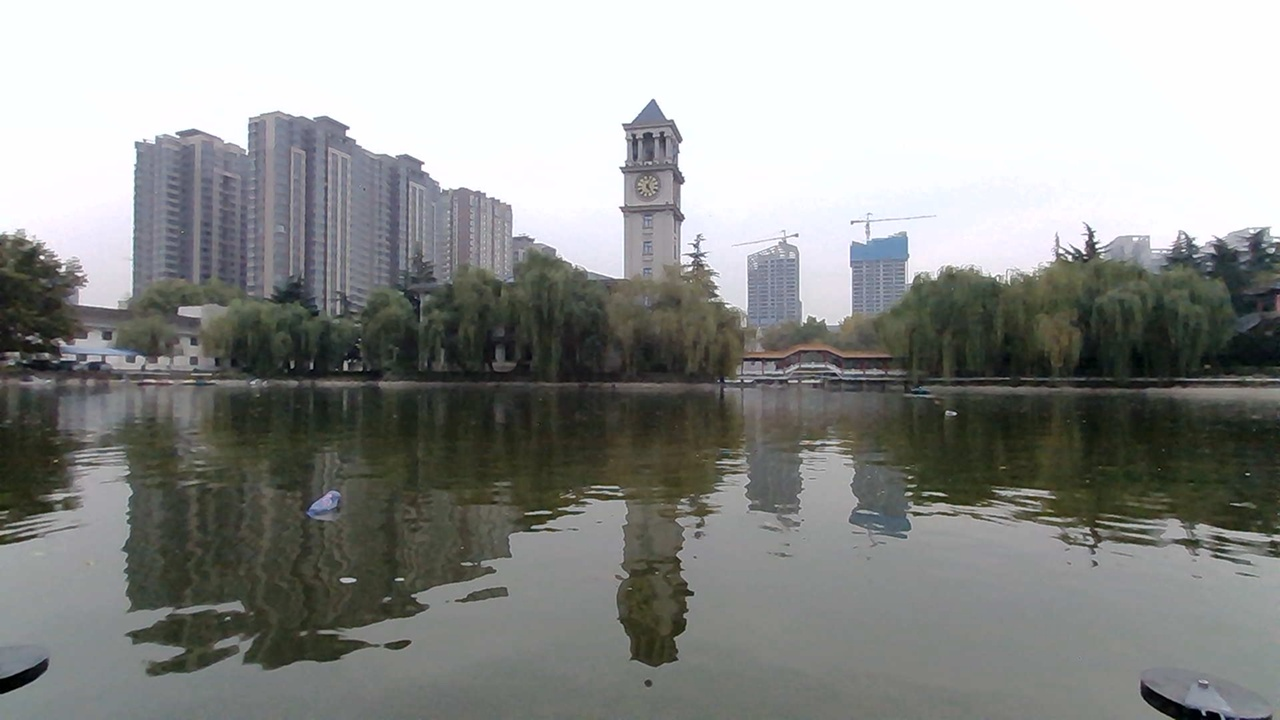bottle: (299, 480, 377, 527), (928, 402, 974, 426)
